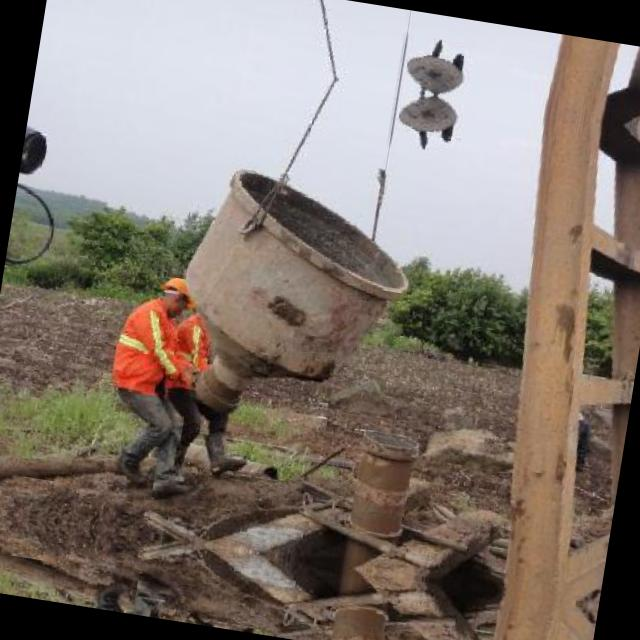helmet: (154, 267, 202, 319)
